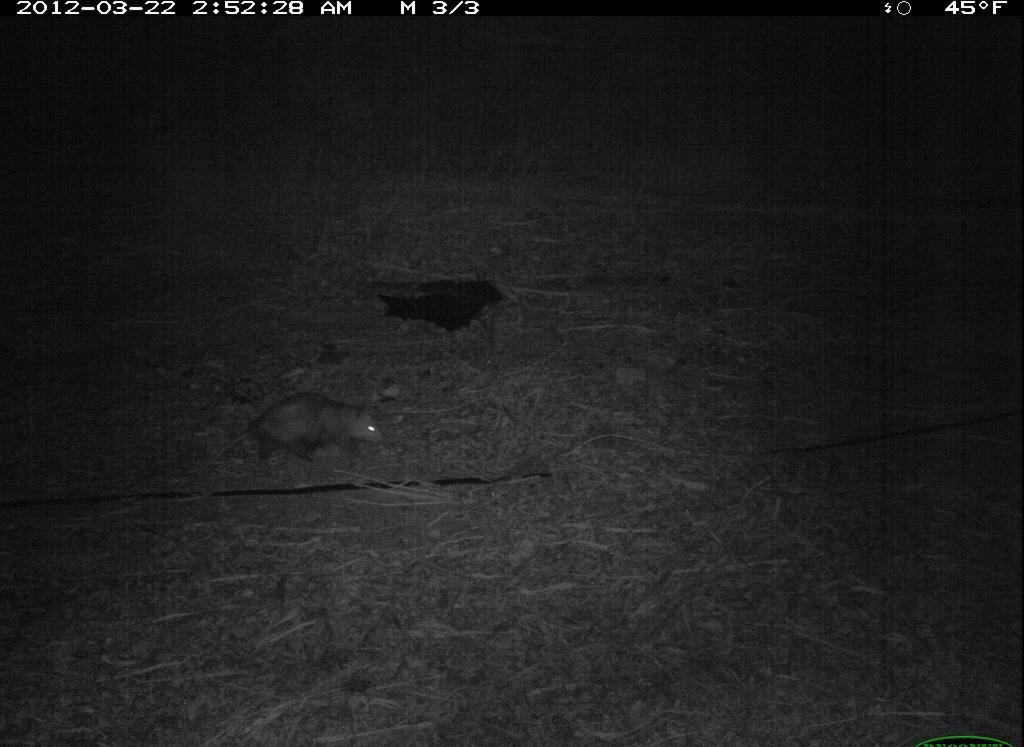opossum: (193, 386, 386, 479)
